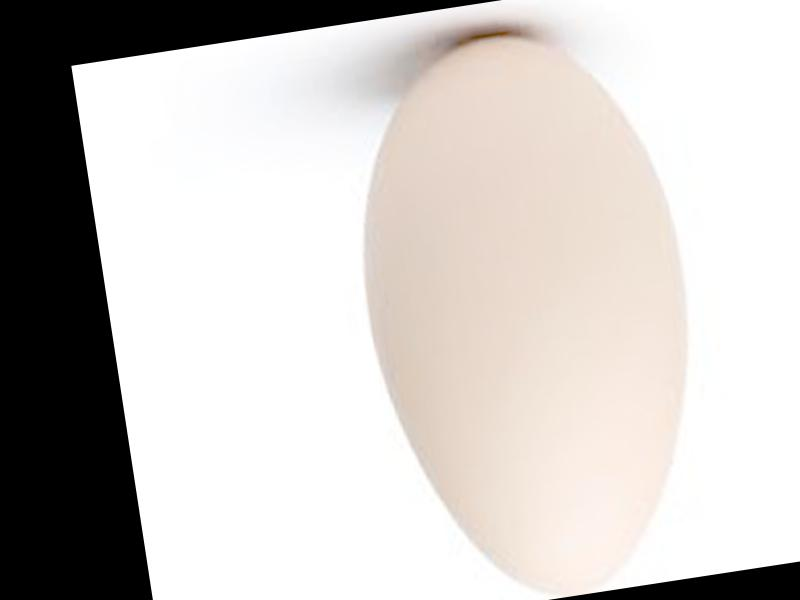Eggs: (329, 7, 727, 600)
